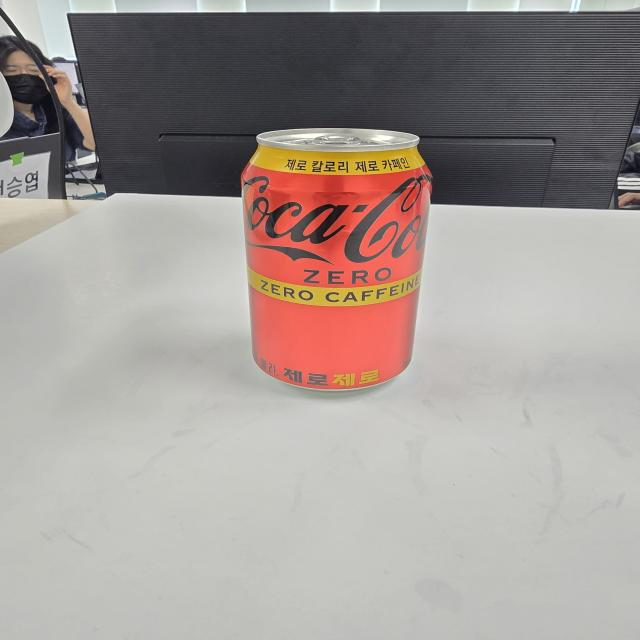can_coke_decaf: (242, 128, 432, 392)
